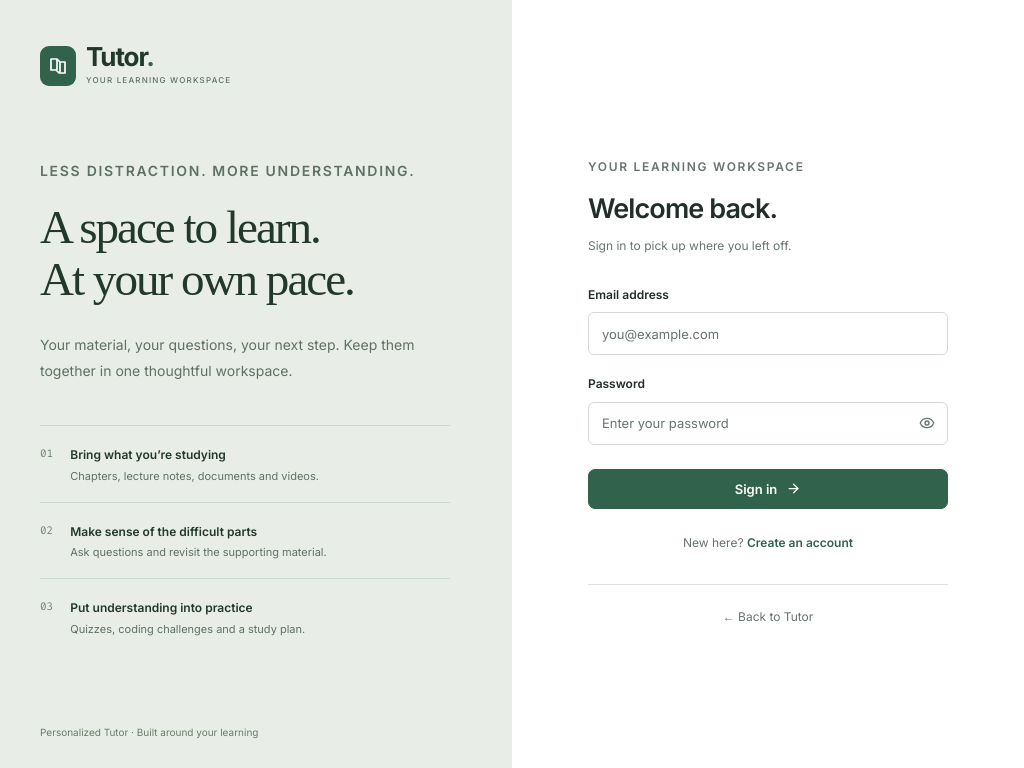
Test: student workflows › keeps a failed sign-in visible without storing credentials or navigating
In the field labelled "Email address": (768, 334) x1=588 y1=312 x2=948 y2=355, type "student@example.test"
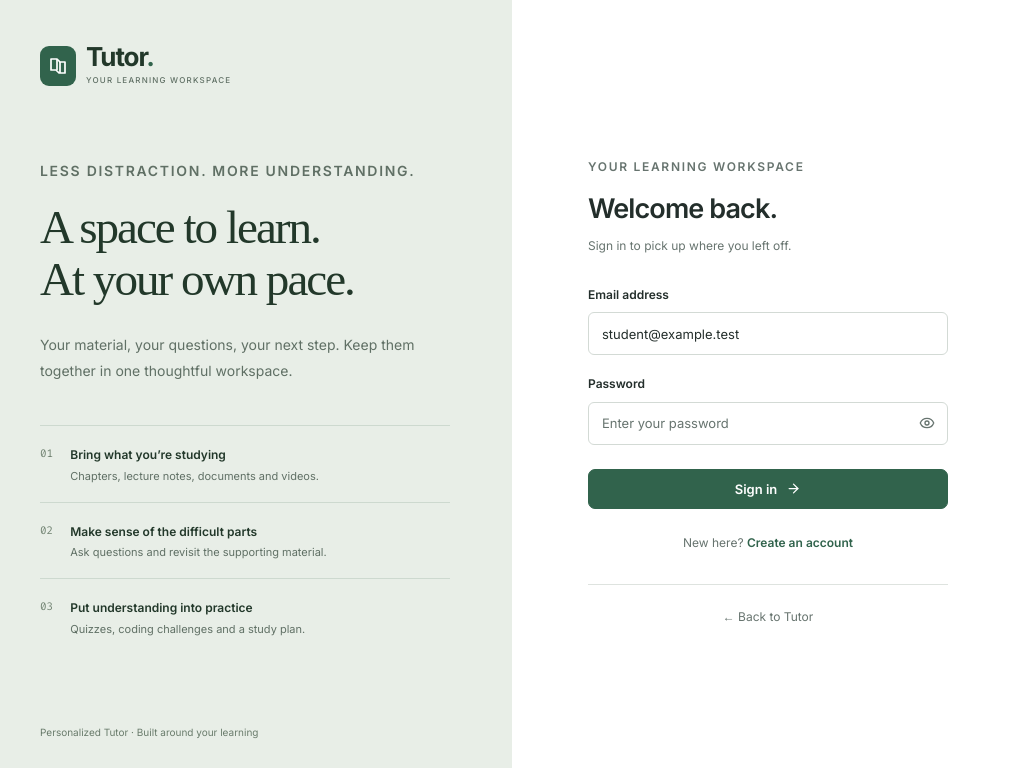
In the password field labelled "Password": (768, 423) x1=588 y1=402 x2=948 y2=445, type "S3cure!$pass"
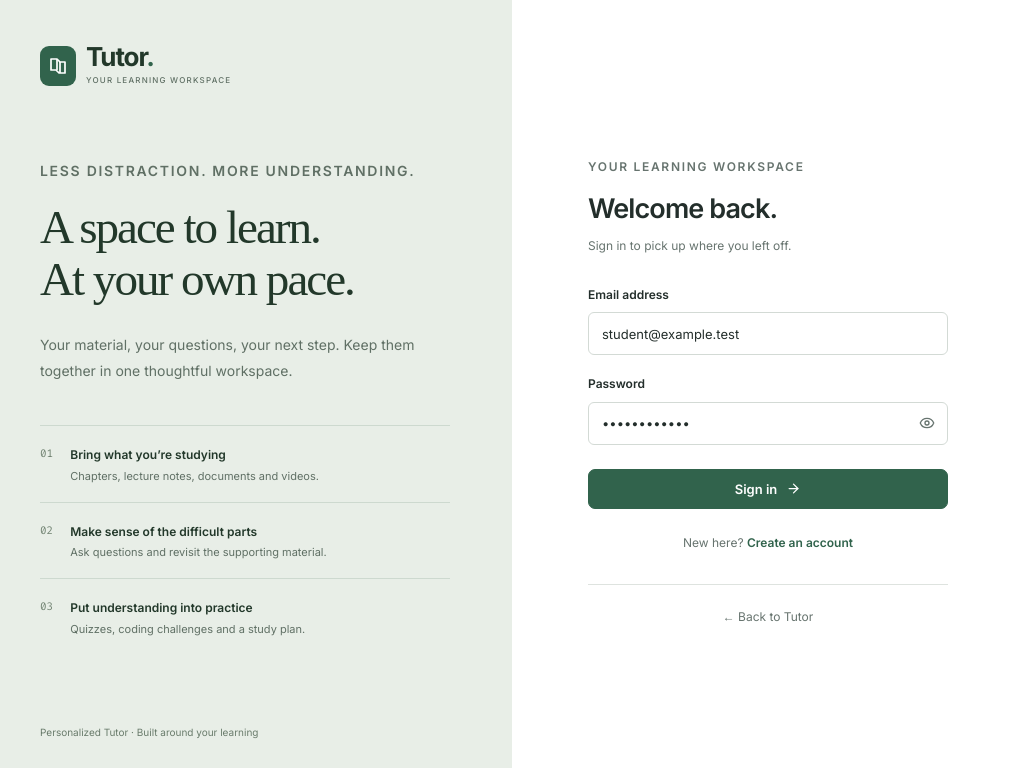
Click the button "Sign in": (768, 489) x1=588 y1=469 x2=948 y2=509
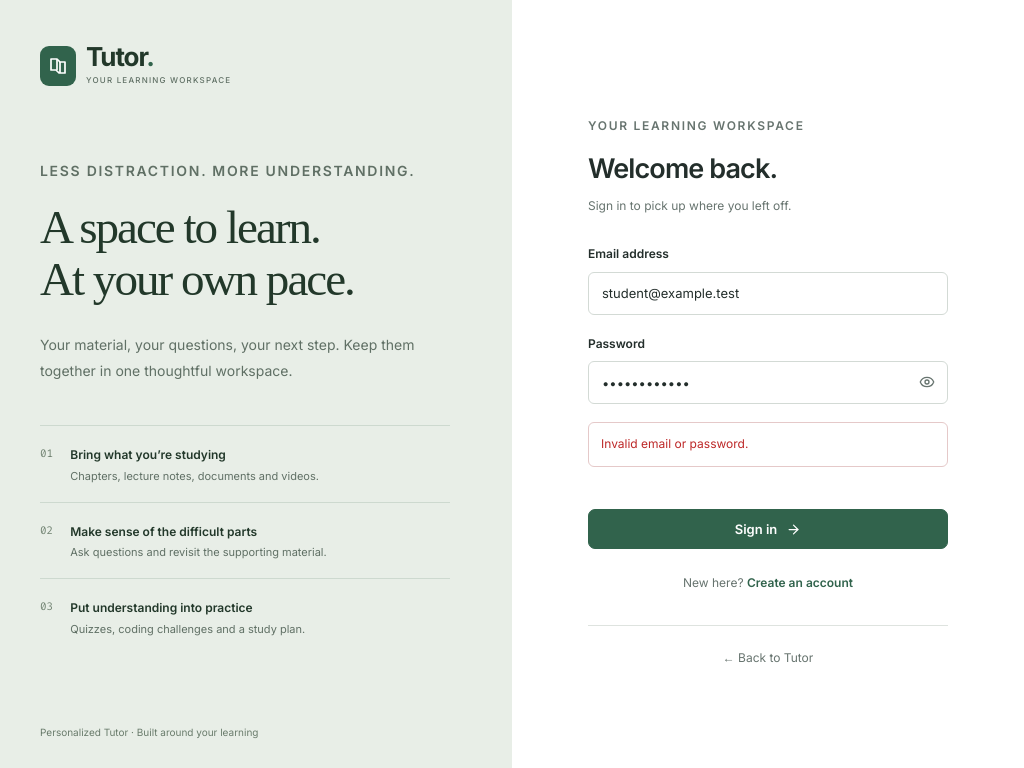
Expected: the message shows "Invalid email or password", x1=601 y1=436 x2=748 y2=452
